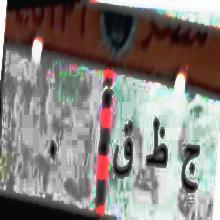0: (46, 129, 60, 175)
Thaa: (144, 108, 168, 178)
jeem: (179, 136, 202, 205)
qaaf: (113, 114, 136, 194)
